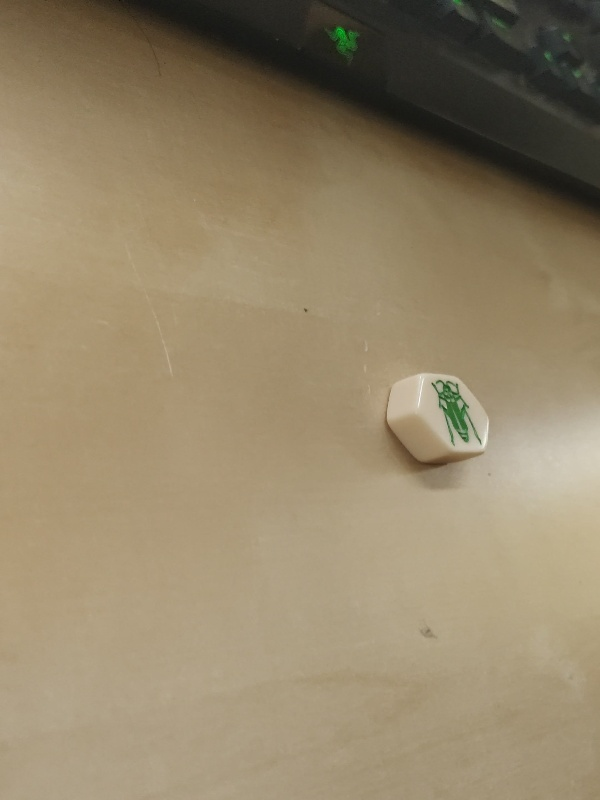white_grasshopper: (387, 374, 494, 465)
